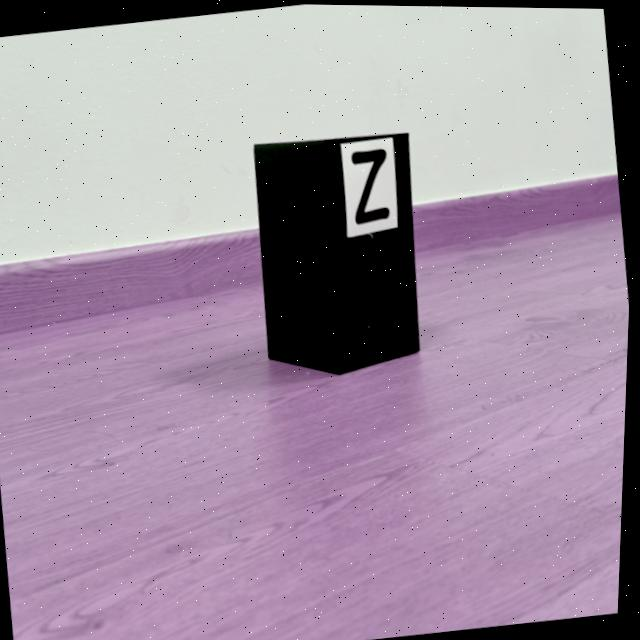Z: (352, 147, 391, 223)
